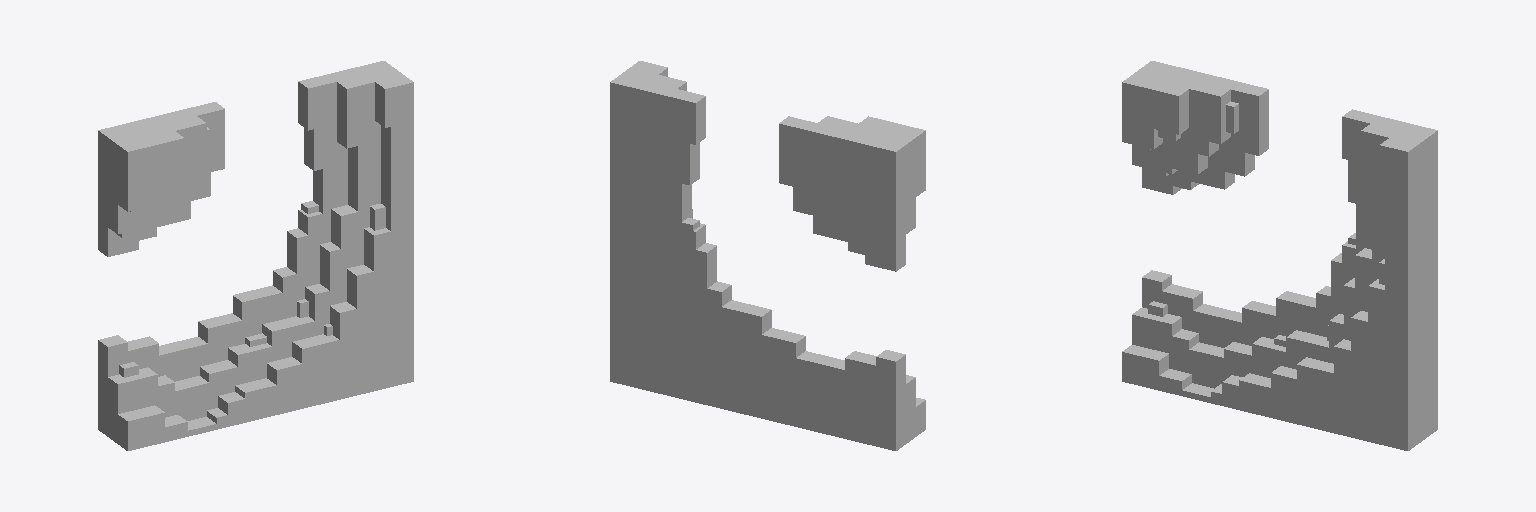
Rendered from corner 5x5.obj.
3 views of the same model, side by side, from view 1: azimuth 30°, elevation 25°; view 2: azimuth 150°, elevation 25°; view 3: azimuth 330°, elevation 25° (orthographic).
Bounding box in the file's own units: 100 × 100 × 18.